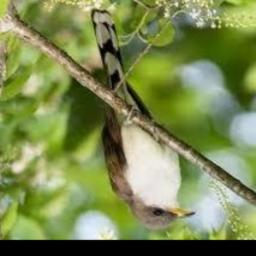Cuckoo: (91, 9, 196, 229)
